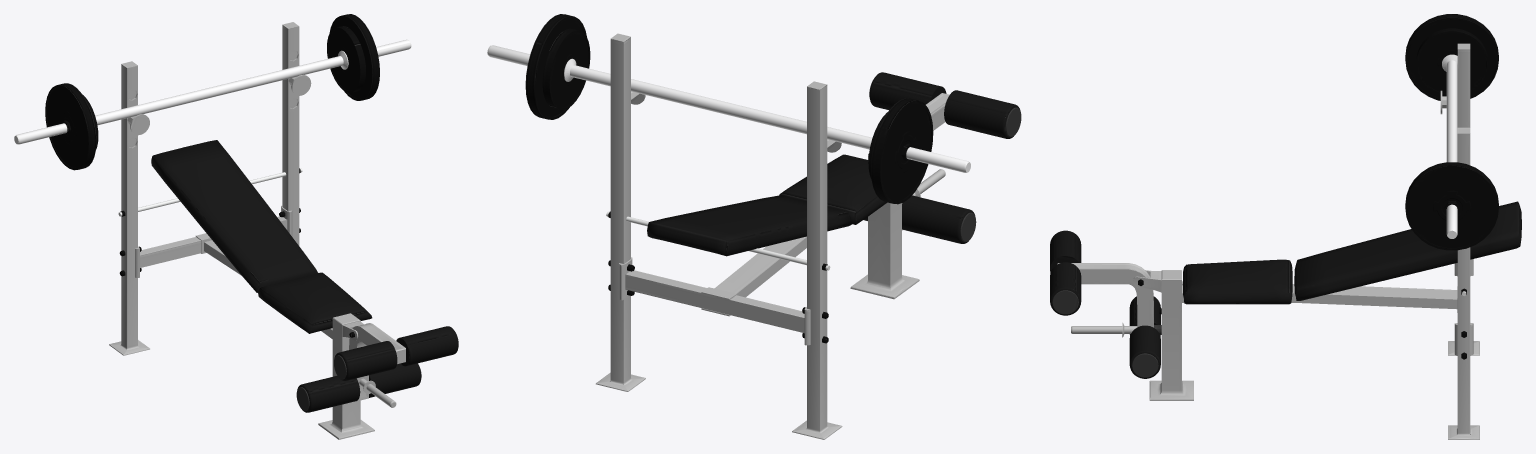
The model's file is weight_lifting_set.glb.
3 views of the same model, side by side, from view 1: azimuth 30°, elevation 25°; view 2: azimuth 150°, elevation 25°; view 3: azimuth 270°, elevation 25° (orthographic). The views are drawn at different scales.
Parts seen in each view (by area): view 1: Box001__0; view 2: Box001__0; view 3: Box001__0.
Part boxes in pixels (x1,y1,x2,y2): Box001__0: [14, 14, 458, 439]; Box001__0: [487, 14, 1021, 439]; Box001__0: [1050, 14, 1521, 439].
Bounding box in the file's own units: 196 × 135 × 191.
Materials: 1 (1 with a texture image).
